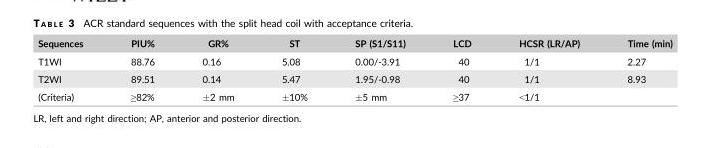table: (37, 37, 671, 108)
table column: (494, 37, 602, 108), (330, 37, 428, 108), (177, 37, 257, 108), (257, 37, 330, 108), (106, 37, 177, 108), (37, 37, 106, 108), (602, 37, 671, 108), (428, 37, 494, 108)
table column header: (37, 37, 671, 51)
table row: (37, 87, 671, 108), (37, 51, 671, 69), (37, 69, 671, 87), (37, 37, 671, 51)
